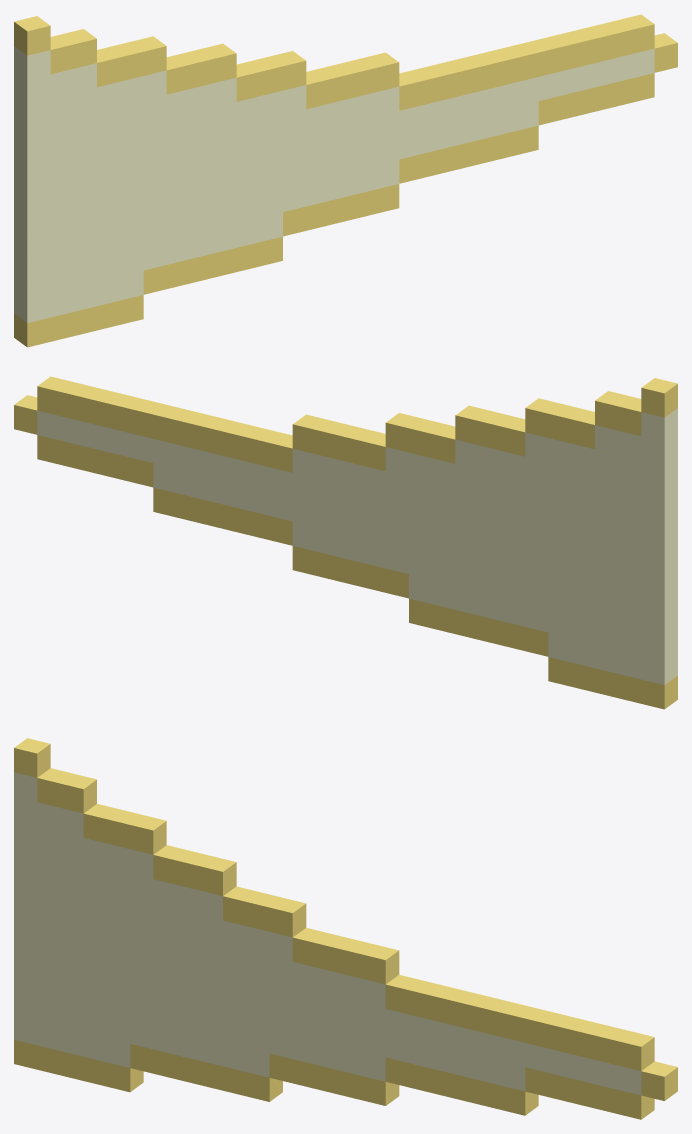
Rendered from Fight_743_2_04_fx.obj.
The picture shows the model from 3 angles, top to bottom: view 1: azimuth 30°, elevation 25°; view 2: azimuth 150°, elevation 25°; view 3: azimuth 330°, elevation 25°; orthographic projection.
Bounding box in the file's own units: 2.8 × 1.3 × 0.1.
Materials: 1 (1 with a texture image).
